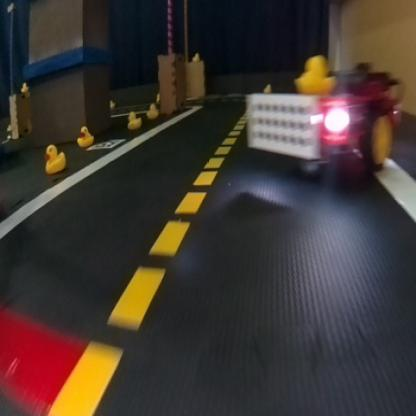duckie: (295, 52, 336, 100), (42, 134, 68, 174), (75, 115, 100, 151), (122, 110, 141, 129)
duckiebot: (239, 66, 415, 185)
